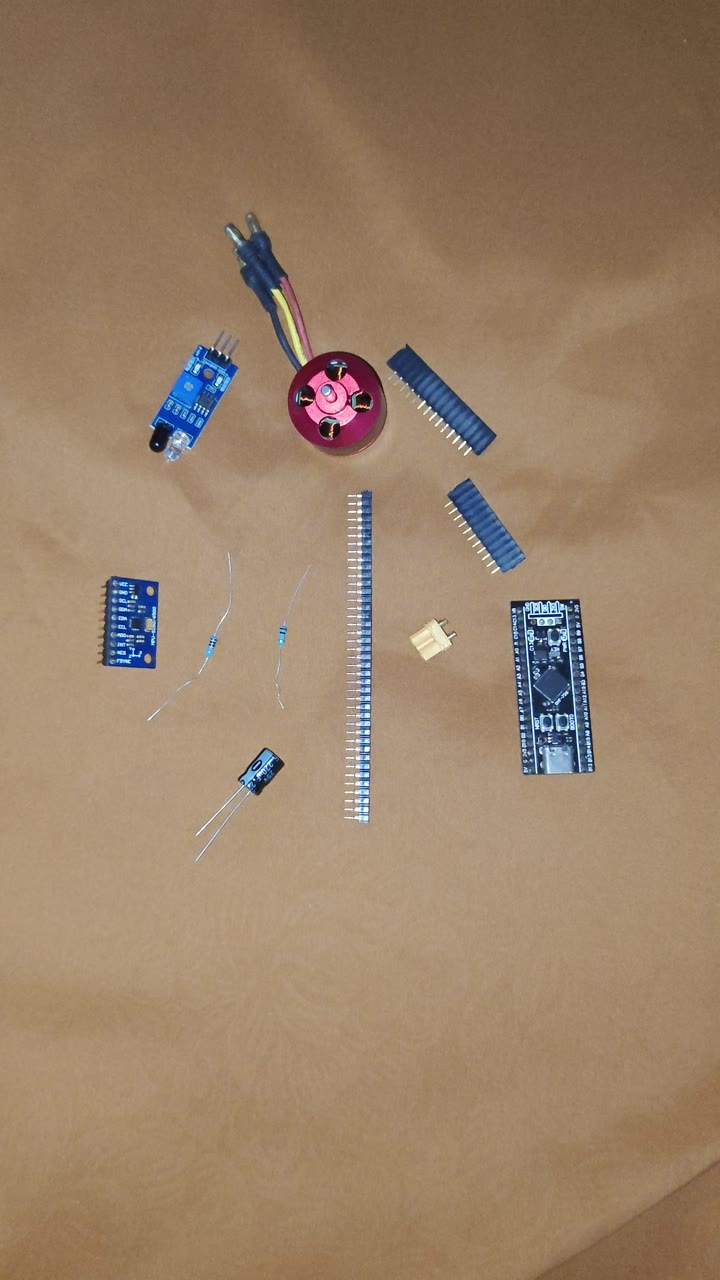bldc_motor: (265, 281, 389, 442)
elco_capacitor: (236, 746, 286, 796)
ir_sensor: (146, 341, 240, 455)
mpu6500: (98, 571, 161, 671)
pin_header: (322, 459, 406, 823), (441, 435, 529, 572), (381, 340, 501, 440)
resistor: (155, 523, 250, 724), (252, 534, 323, 722)
stm32f4: (507, 591, 596, 782)
xt30_female: (407, 616, 457, 661)
